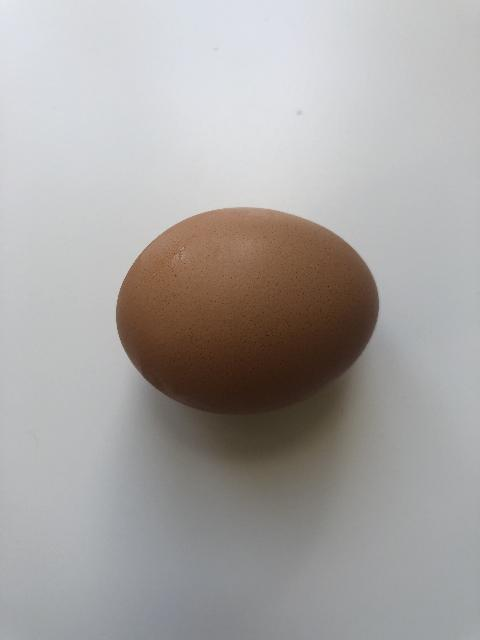Sano: (114, 205, 380, 416)
